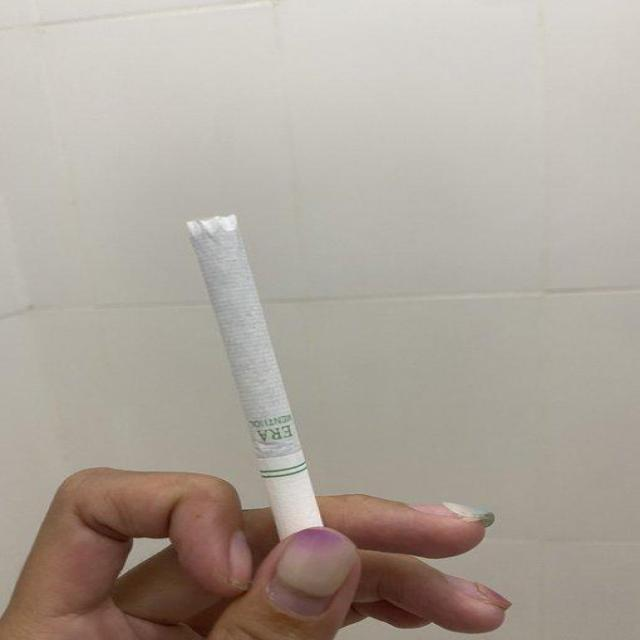rokok: (180, 208, 352, 528)
